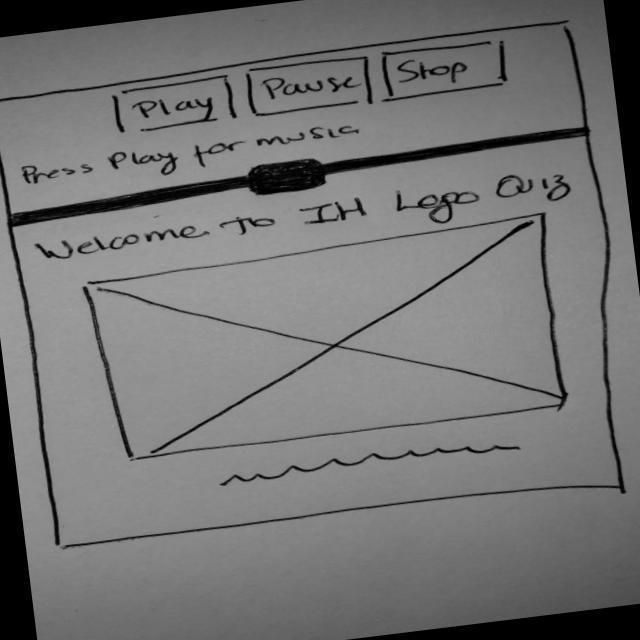button: (242, 52, 380, 124), (379, 36, 511, 103), (106, 76, 240, 139)
container: (1, 13, 640, 567)
image: (71, 208, 583, 470)
label: (33, 169, 582, 277), (18, 117, 374, 193)
slider: (4, 116, 598, 236)
text: (204, 433, 535, 494)
